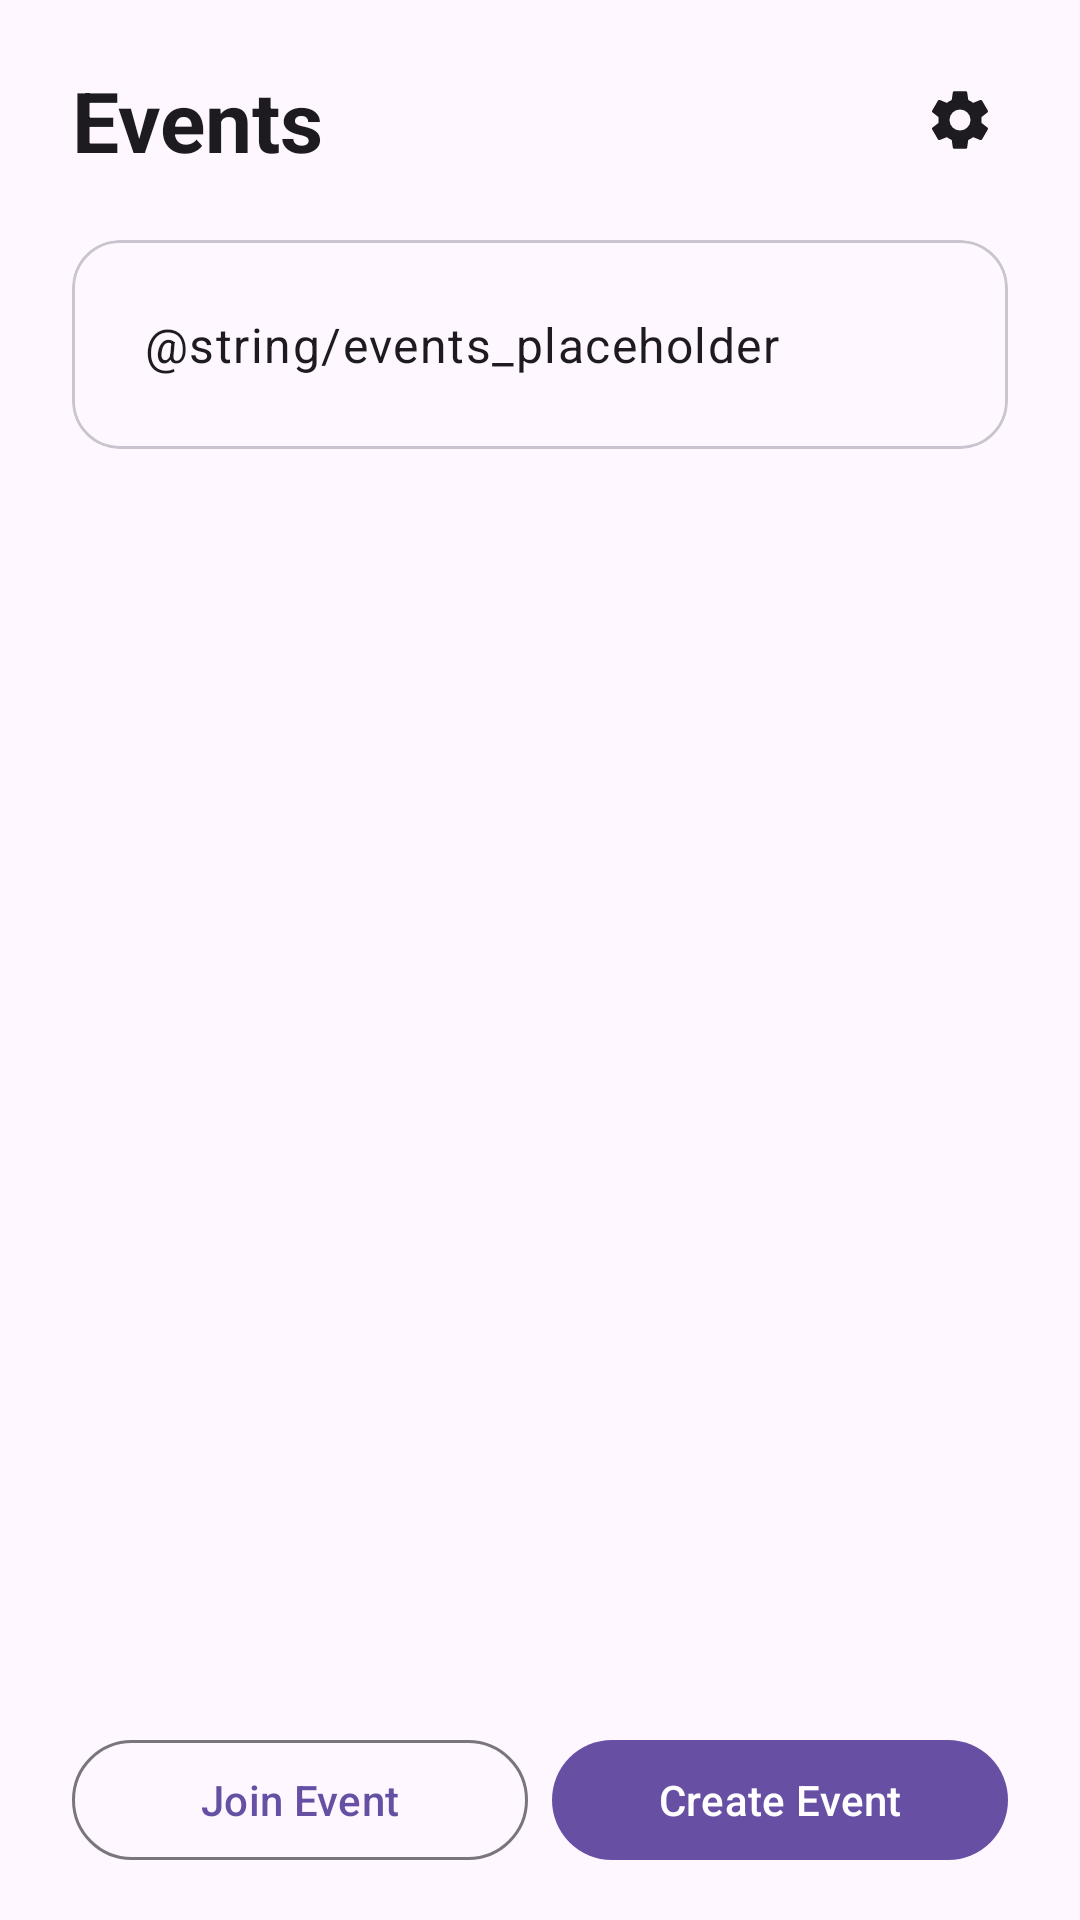

Screen size 1080*1920. Icon name, then its center in pixels as (x,y):
Settings: (960,120)
